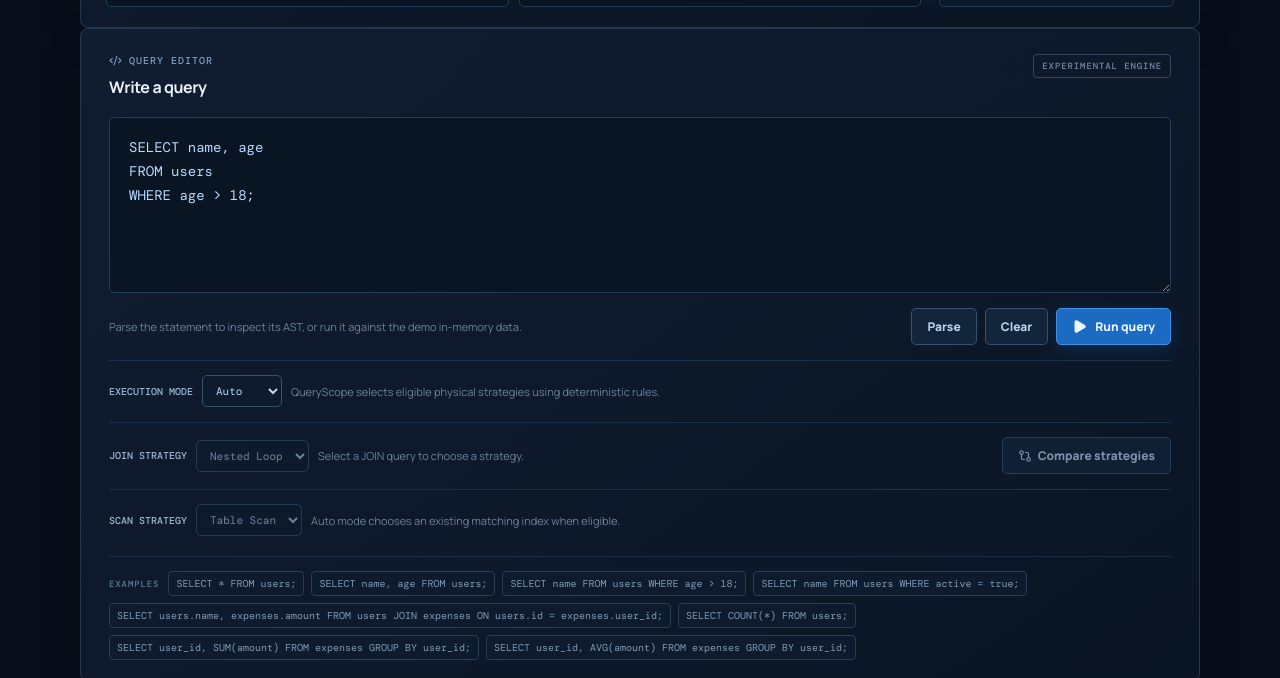
Scenario: App › runs the query and renders rows and execution metrics
(page scrolled)
Click the button "Run query" at (1114, 327), box [1056,308,1171,345]
(page scrolled)
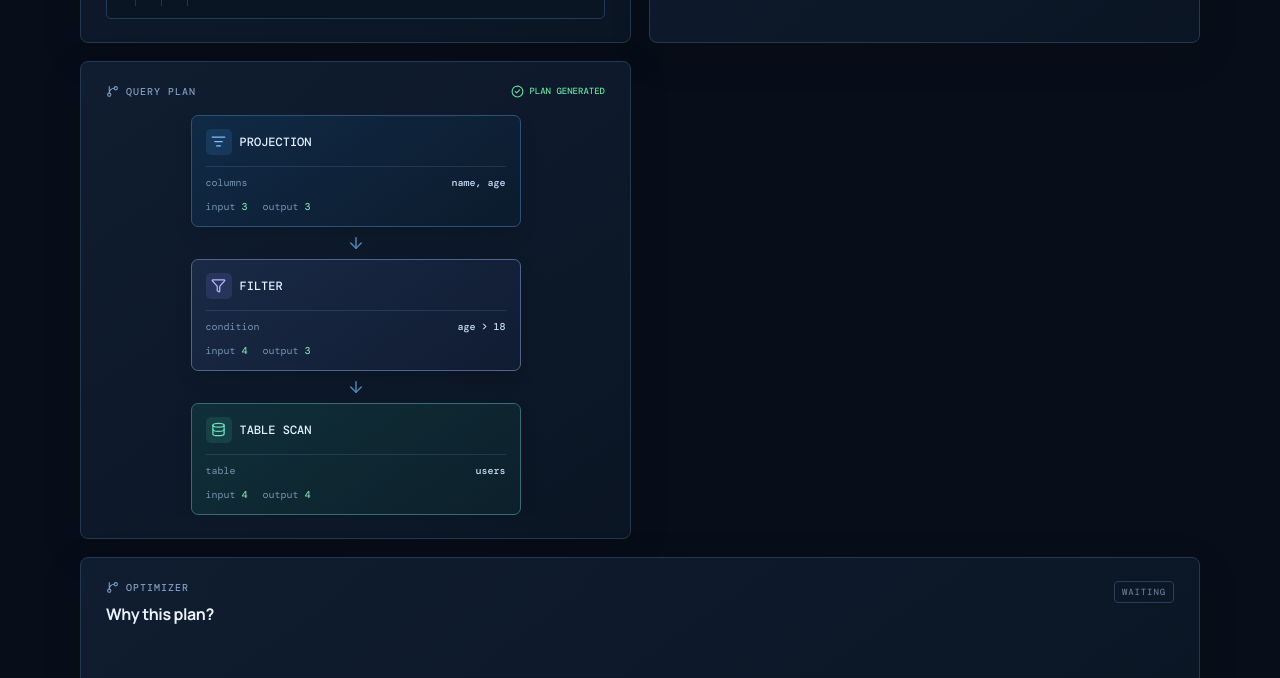
Expected: the text "PROJECTION" is shown, [240,134,312,150]
Expected: the text "FILTER" is shown, [240,278,283,294]
Expected: the text "TABLE SCAN" is shown, [240,422,312,438]
